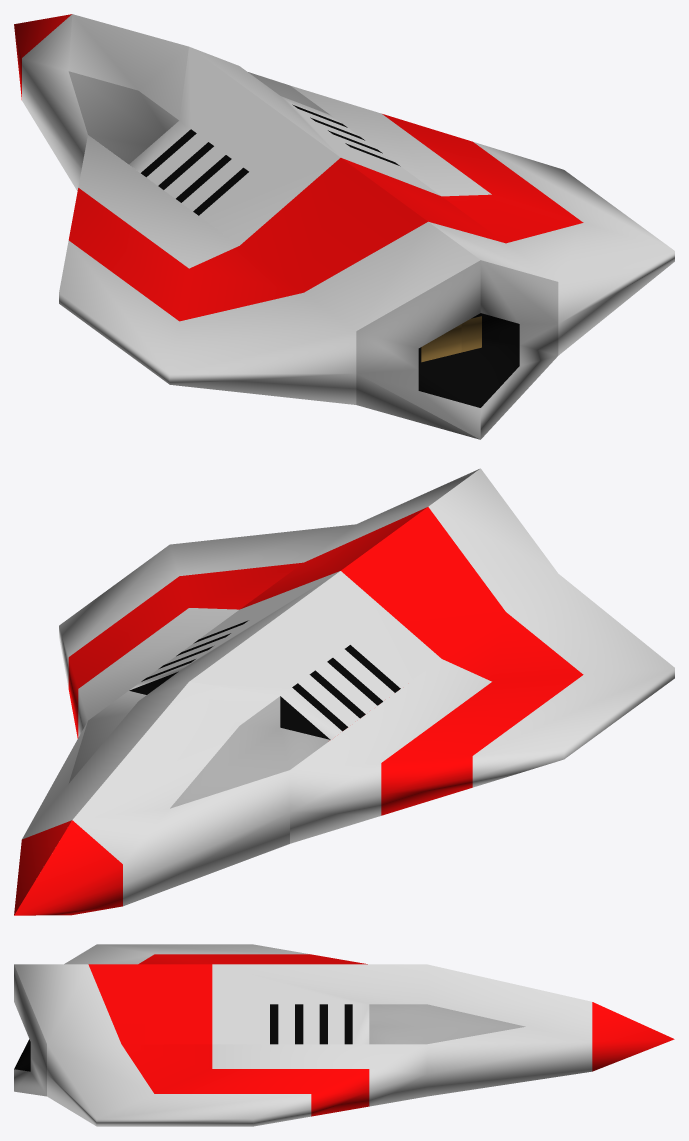
Rendered from ship2.fbx.
3 renders of one model, top to bottom at view 1: azimuth 30°, elevation 25°; view 2: azimuth 150°, elevation 25°; view 3: azimuth 270°, elevation 25°, orthographic. The views are drawn at different scales.
Parts seen in each view (by area): view 1: Laser; view 2: Laser; view 3: Laser.
Boxes of the visible parts, x1,y1,x2,y2 form: Laser: (14, 14, 674, 439); Laser: (14, 468, 674, 915); Laser: (14, 944, 674, 1126).
Size of the model in its own units: 2.95 by 1 by 4.72.
